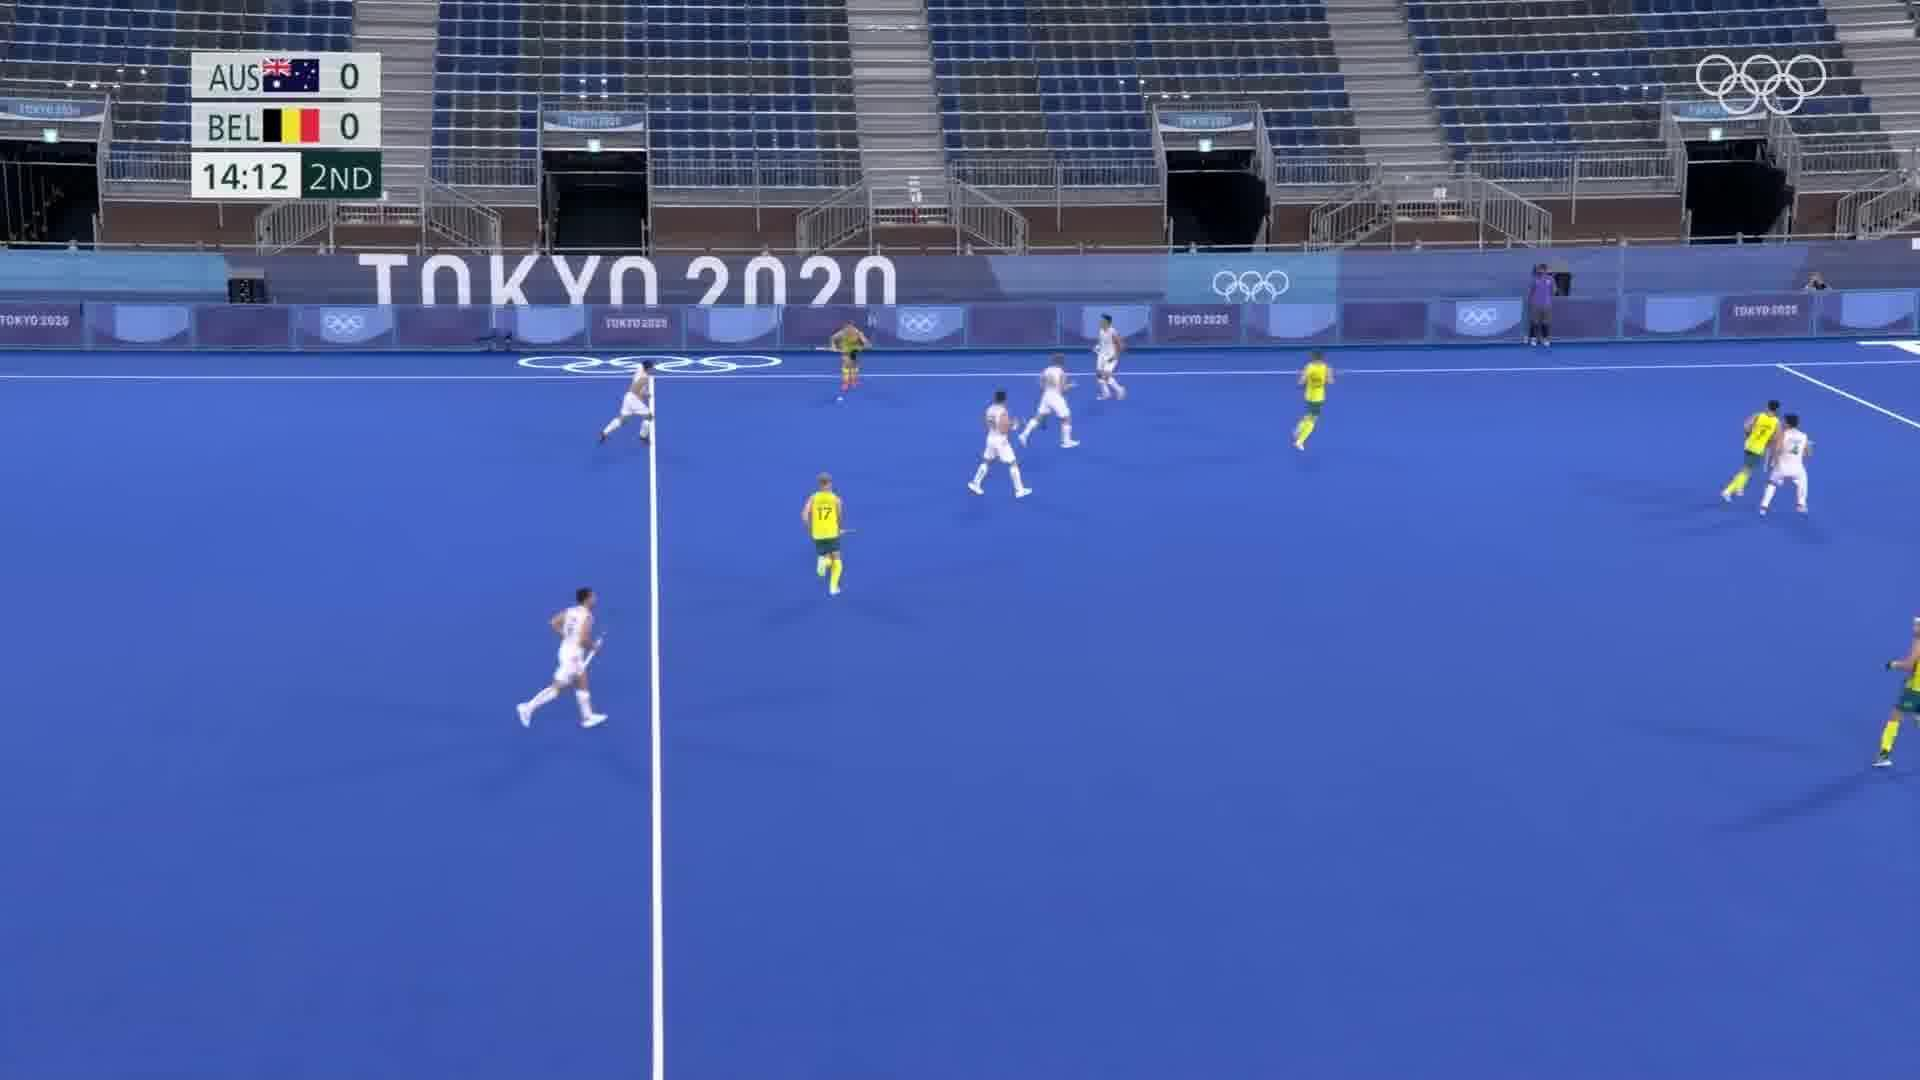ball: (829, 386, 849, 407)
